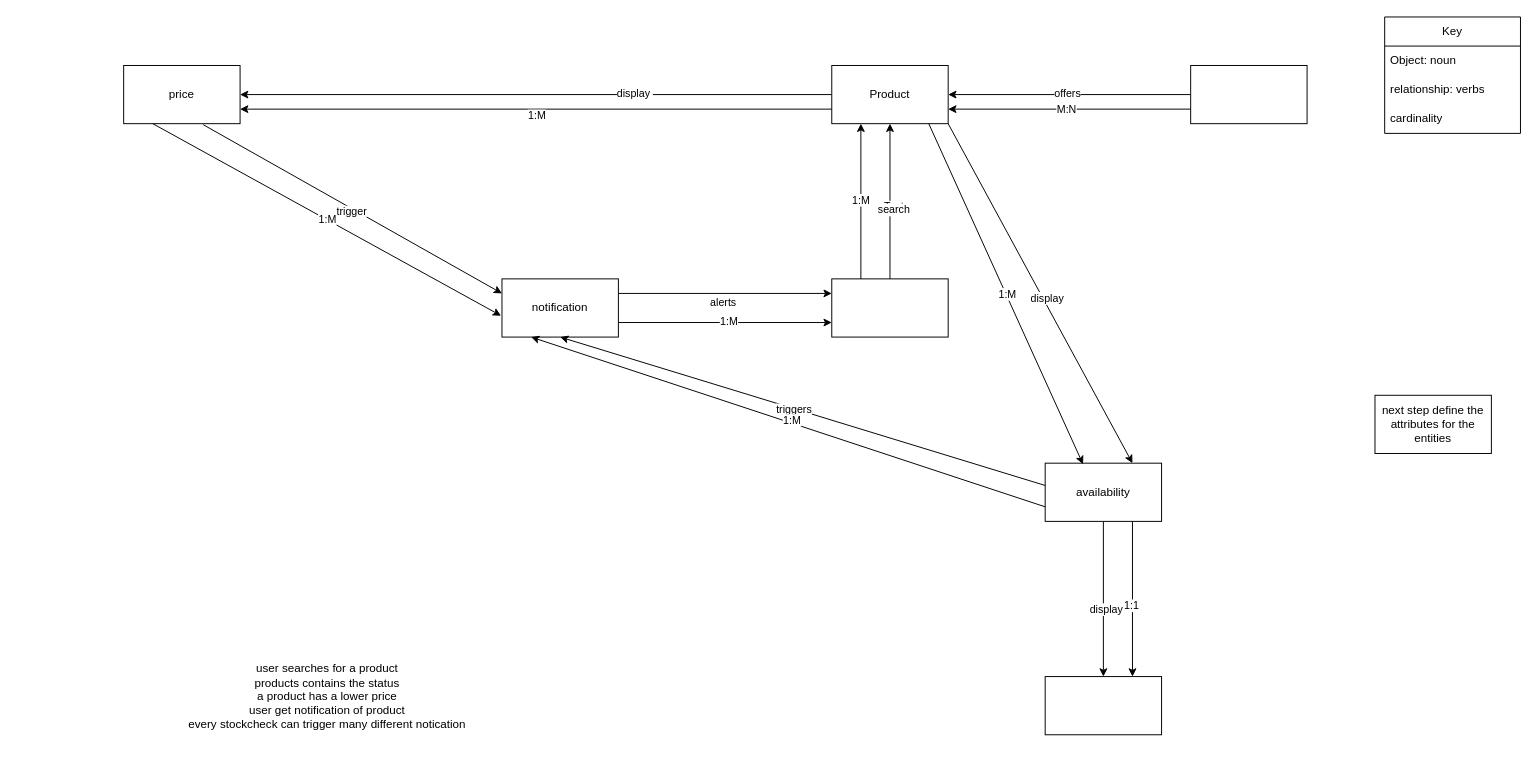
This 1537x781 diagram has some shape labels left out. Here are the shapes that lost their labels. From the top down, the centre of each, then its label:
point (1248, 94): seller
point (889, 307): User
point (1103, 705): stockcheck history
